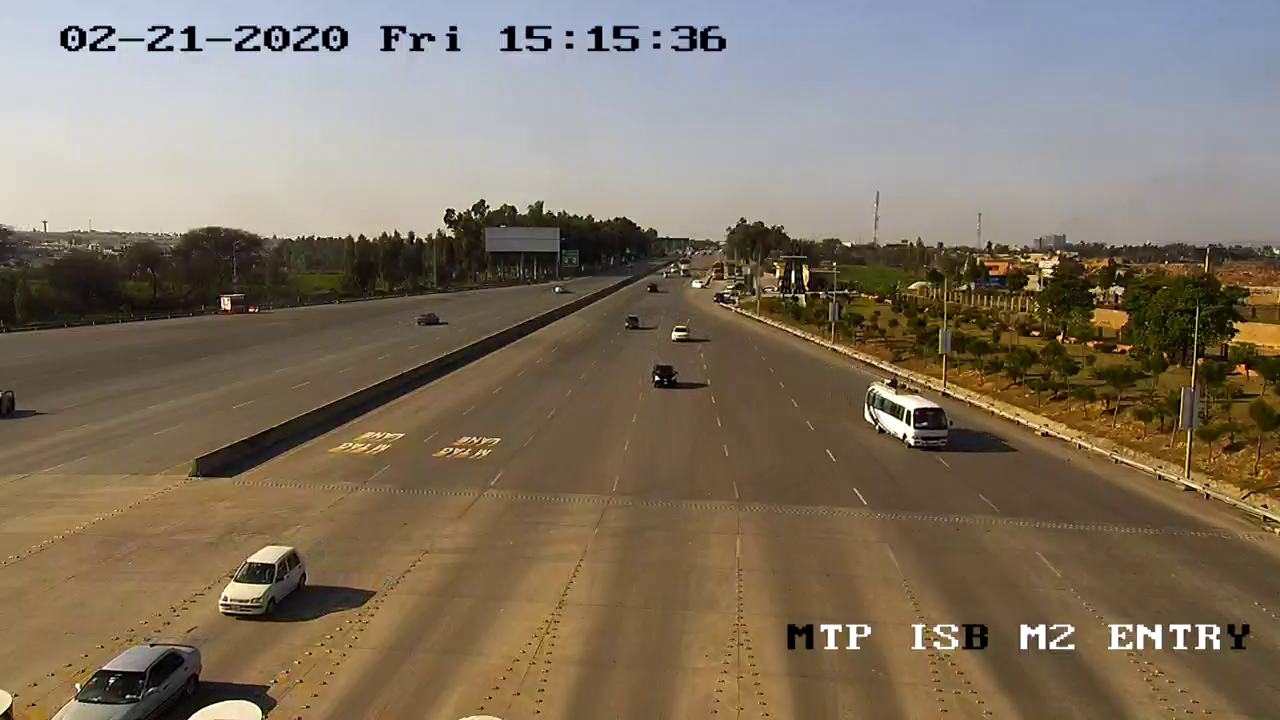f1: (212, 533, 314, 623)
f3: (861, 369, 958, 459)
